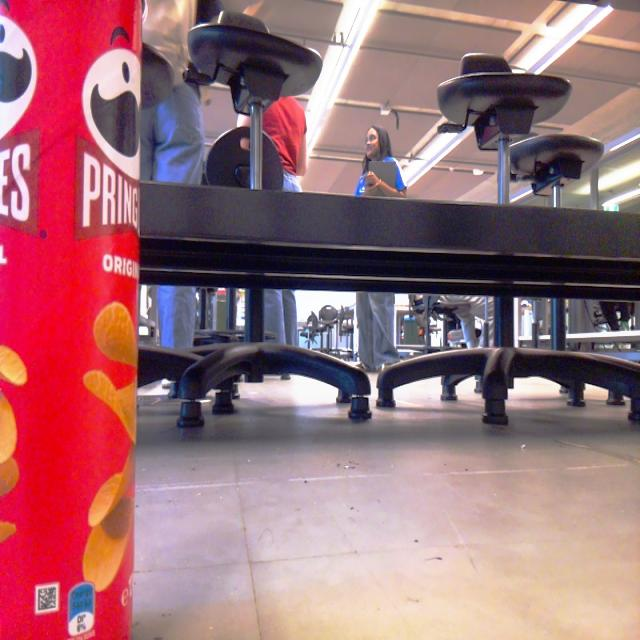redpringles: (0, 0, 198, 640)
